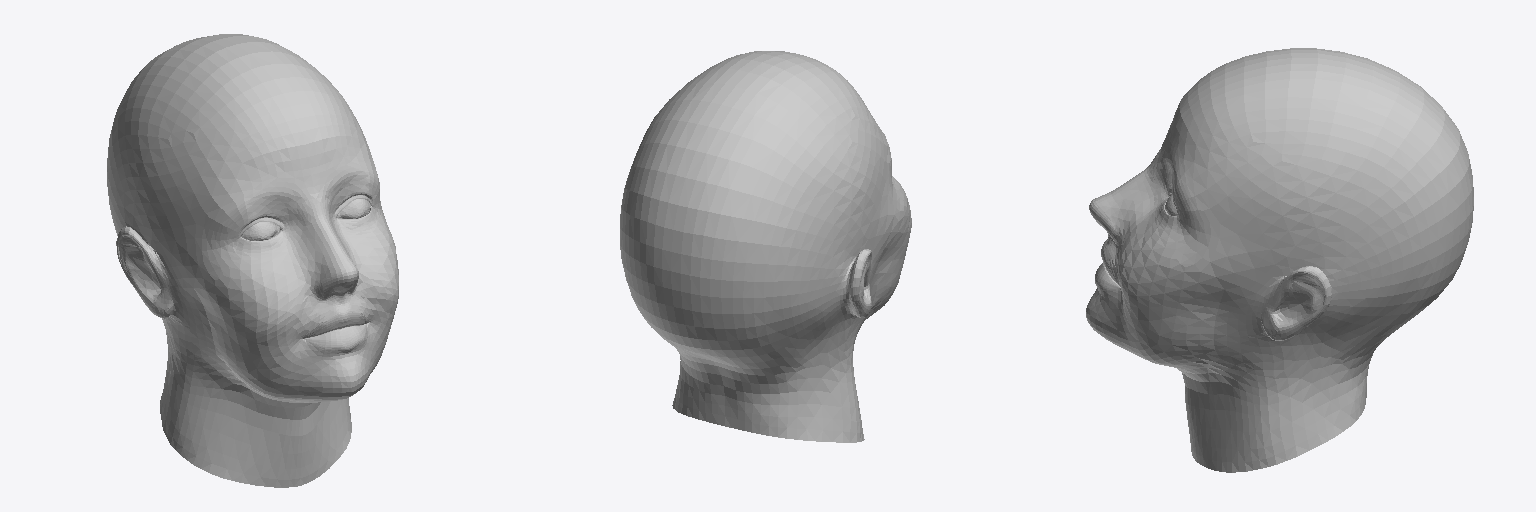
3 renders of one model, left to right at view 1: azimuth 30°, elevation 25°; view 2: azimuth 150°, elevation 25°; view 3: azimuth 270°, elevation 25°, orthographic.
Parts seen in each view (by area): view 1: FaceGen; view 2: FaceGen; view 3: FaceGen.
Part boxes in pixels (bbox=[...]): FaceGen: bbox=[107, 34, 398, 487]; FaceGen: bbox=[620, 51, 911, 442]; FaceGen: bbox=[1086, 48, 1473, 472].
Bounding box in the file's own units: 171 × 279 × 248.